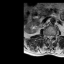CCS_normal: (49, 33, 51, 42)
LFS_normal: (53, 32, 55, 39)
LLS_normal: (51, 33, 53, 40)
RFS_normal: (45, 32, 47, 40)
RLS_normal: (47, 33, 49, 40)
